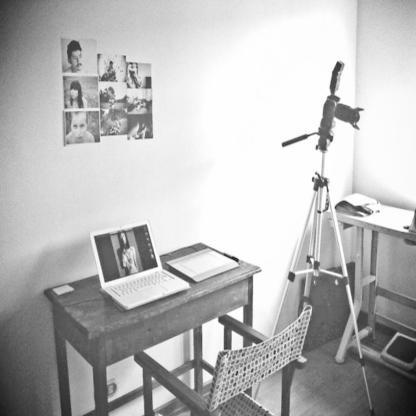board: (89, 218, 191, 311)
